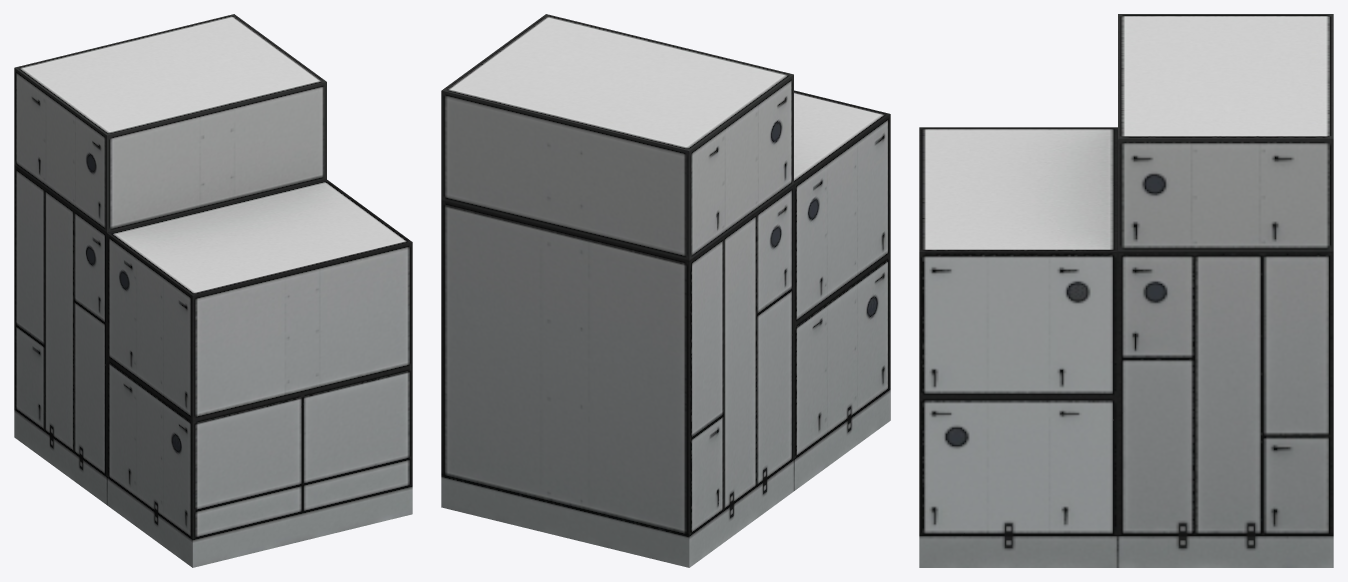
Rendered from thermohygrostat02.gltf.
3 renders of one model, left to right at view 1: azimuth 30°, elevation 25°; view 2: azimuth 150°, elevation 25°; view 3: azimuth 270°, elevation 25°, orthographic. The views are drawn at different scales.
Parts seen in each view (by area): view 1: hanaThermohygrostat; view 2: hanaThermohygrostat; view 3: hanaThermohygrostat.
Boxes of the visible parts, <box> form: hanaThermohygrostat: <box>14,14,412,567</box>; hanaThermohygrostat: <box>441,14,890,567</box>; hanaThermohygrostat: <box>919,14,1333,567</box>.
Bounding box in the file's own units: 26.04 × 41.82 × 36.58.
Materials: 1 (1 with a texture image).
